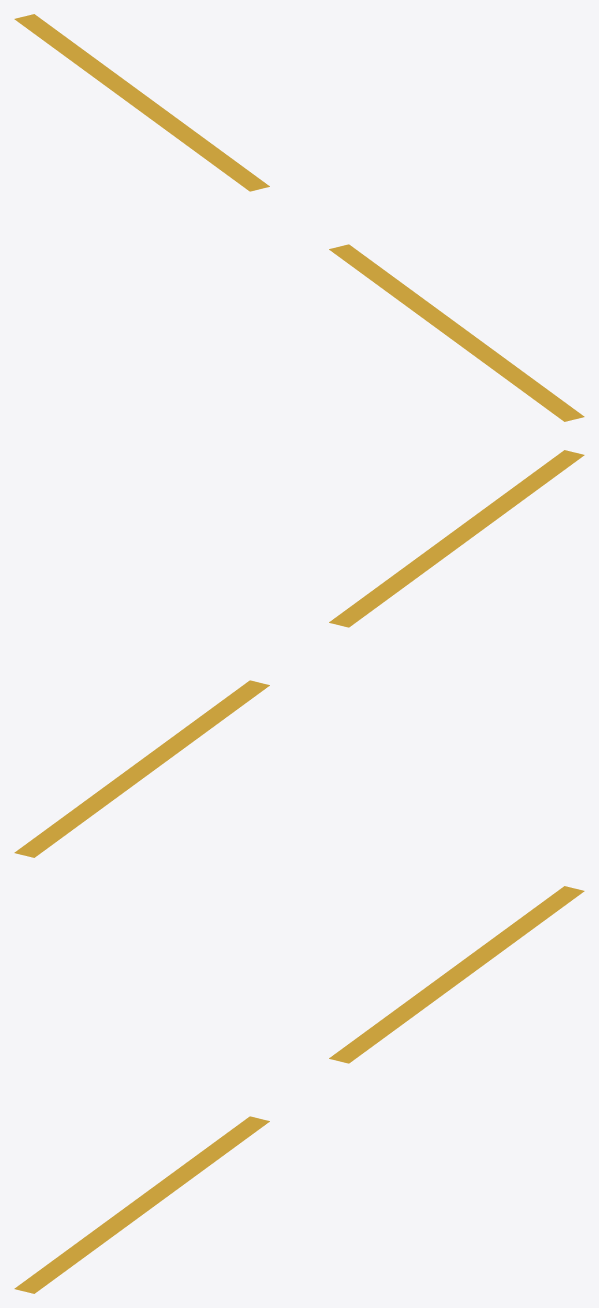
The model's file is Marking_CenterDashed_Yellow_8m.glb.
The picture shows the model from 3 angles, top to bottom: view 1: azimuth 30°, elevation 25°; view 2: azimuth 150°, elevation 25°; view 3: azimuth 330°, elevation 25°; orthographic projection.
Parts seen in each view (by area): view 1: Marking_CenterDashed_Yellow_8m_PaintYellow; view 2: Marking_CenterDashed_Yellow_8m_PaintYellow; view 3: Marking_CenterDashed_Yellow_8m_PaintYellow.
Part boxes in pixels (<box>): Marking_CenterDashed_Yellow_8m_PaintYellow: <box>14,14,584,421</box>; Marking_CenterDashed_Yellow_8m_PaintYellow: <box>14,450,584,857</box>; Marking_CenterDashed_Yellow_8m_PaintYellow: <box>14,886,584,1293</box>.
Size of the model in its own units: 0.15 by 0 by 7.
